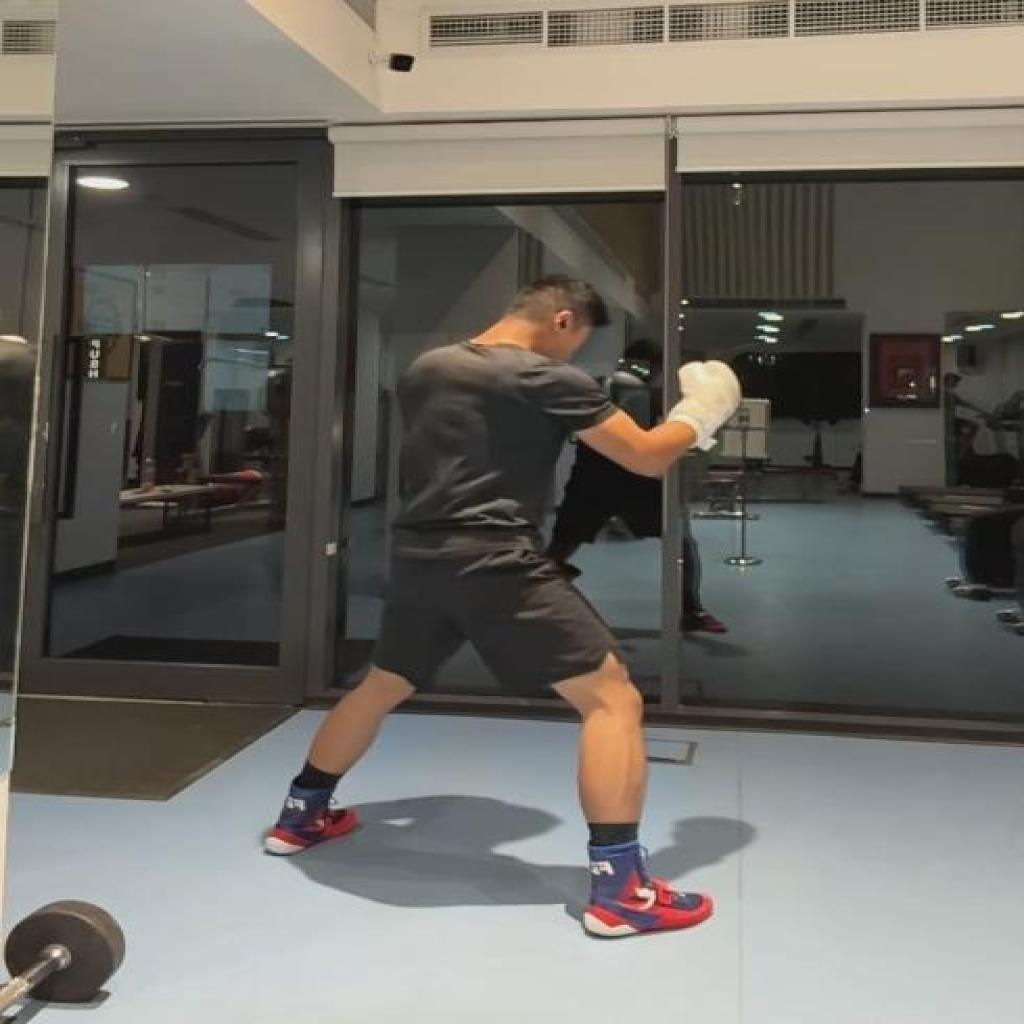uppercut: (261, 274, 744, 940)
